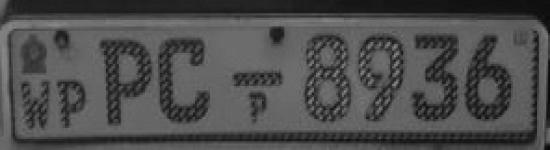-: (232, 66, 286, 94)
3: (411, 30, 464, 126)
6: (465, 30, 518, 126)
8: (299, 26, 357, 126)
9: (359, 27, 409, 127)
P: (94, 32, 155, 133), (157, 31, 216, 131), (55, 75, 91, 132)
W: (17, 76, 54, 133)
